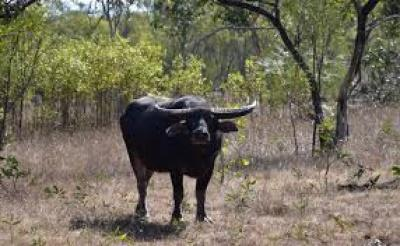buffalo: (120, 95, 255, 220)
